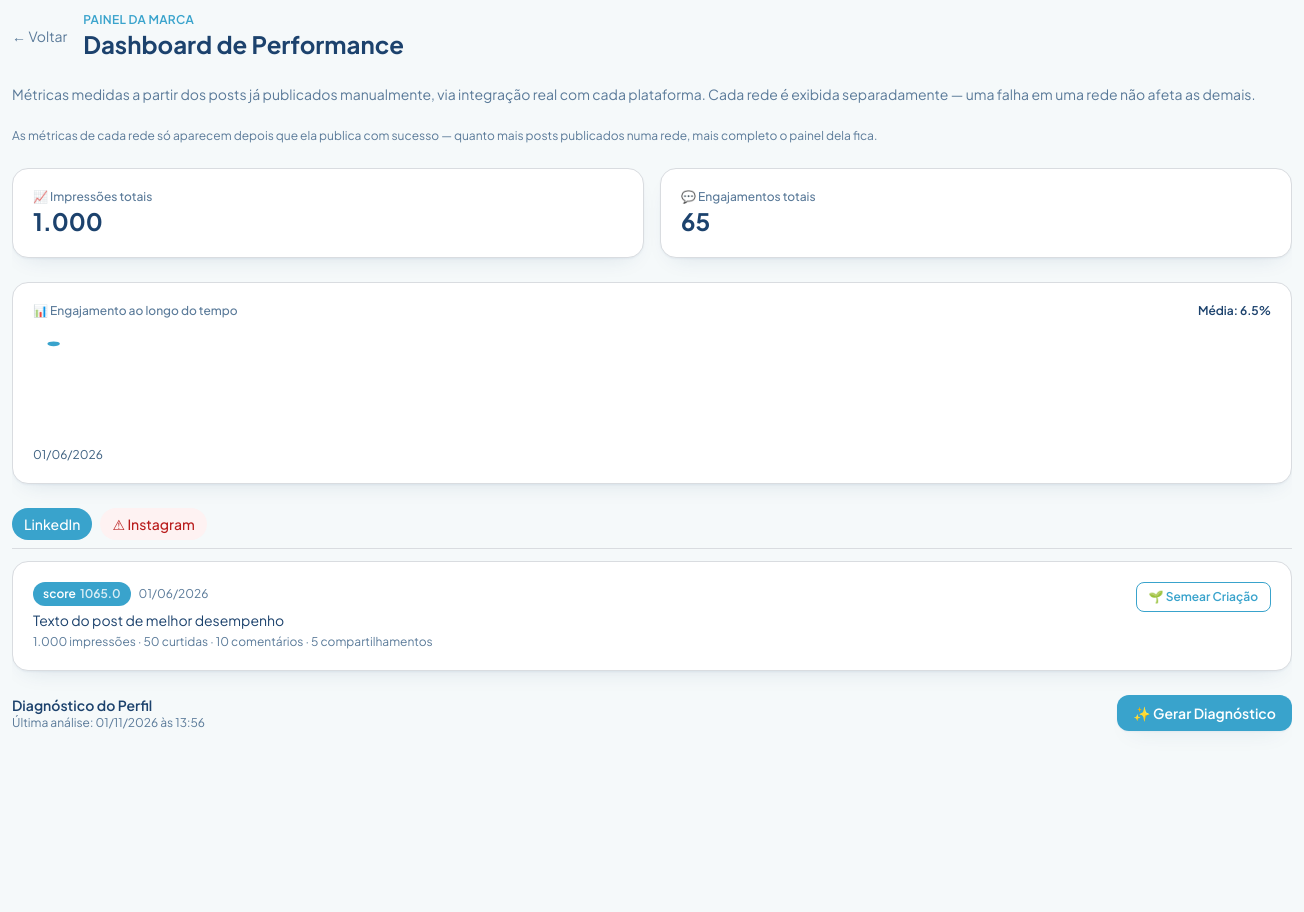
Test: PerformanceDashboardPage › mostra mensagem amigável e link para reconectar quando o erro de permissão é de outra rede
This screenshot has width=1304, height=912.
Expected: the text "Texto do post de melhor desempenho" is shown, top-left (33, 611), bottom-right (284, 629)
Click the button "⚠ Instagram": (154, 524) top-left (100, 508), bottom-right (207, 540)
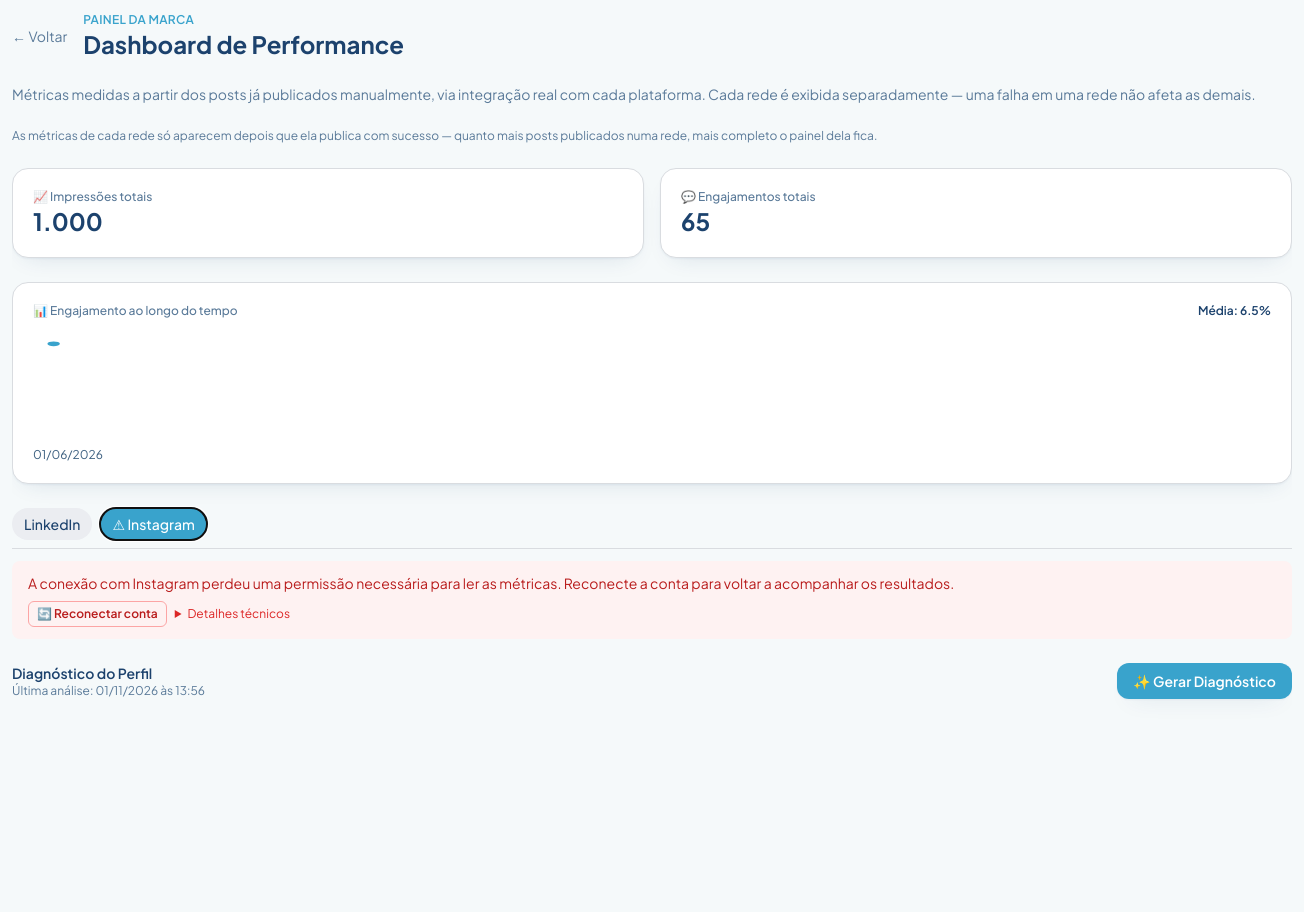
Expected: the text "perdeu uma permissão necessária para ler as métricas" is shown, top-left (28, 574), bottom-right (954, 592)
Expected: the text "OAuthException" is shown, top-left (175, 606), bottom-right (290, 622)
